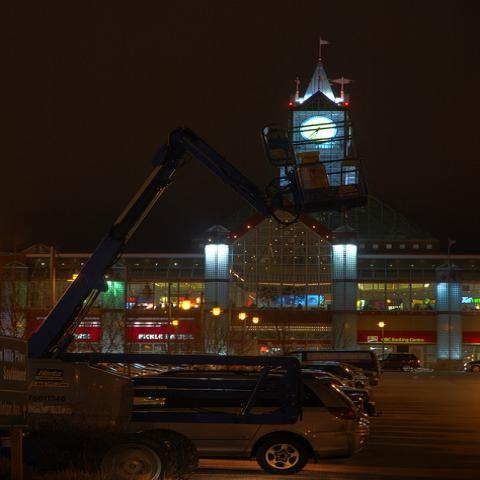car: (135, 367, 374, 473), (300, 368, 377, 416), (300, 362, 378, 386), (377, 353, 422, 372), (463, 359, 480, 373)
